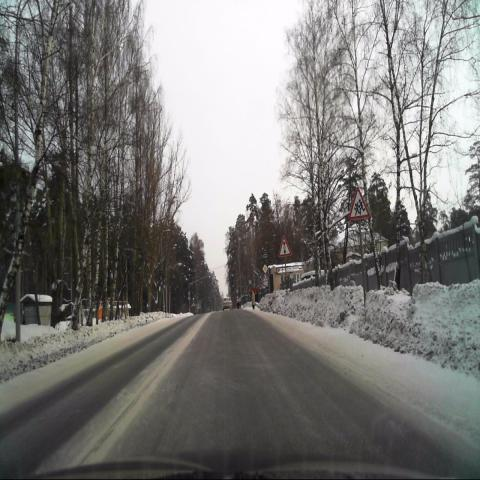1_8: (278, 236, 292, 258)
